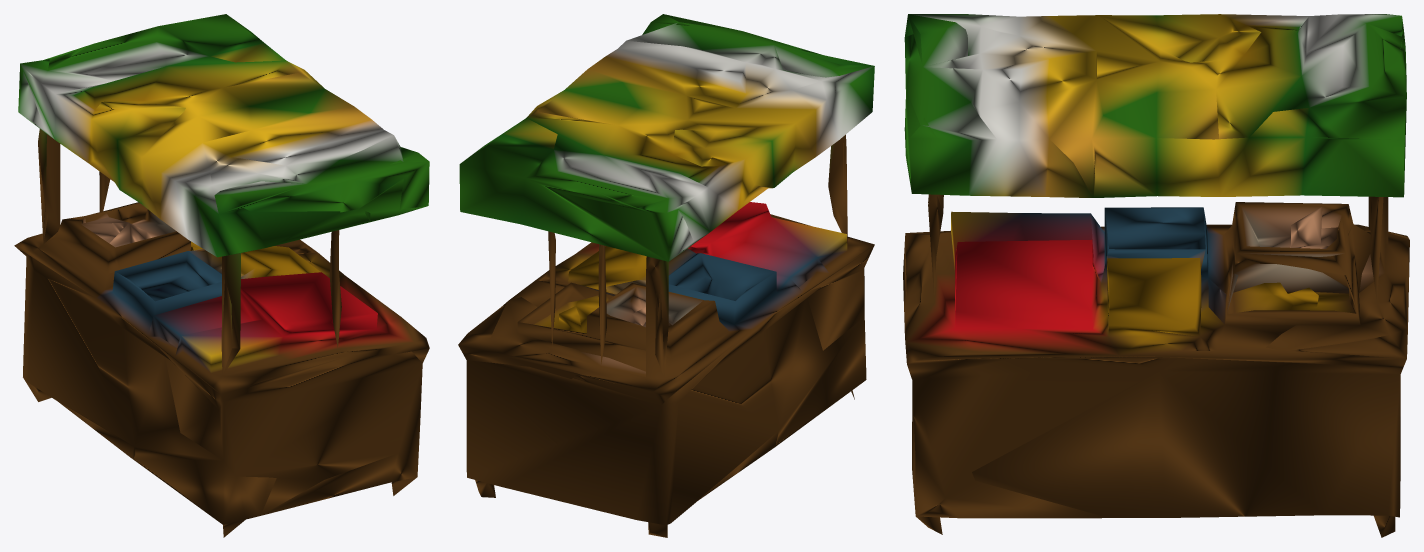
File: gen3d-market-stall-lod1.glb
3 renders of one model, left to right at view 1: azimuth 30°, elevation 25°; view 2: azimuth 150°, elevation 25°; view 3: azimuth 270°, elevation 25°, orthographic. The views are drawn at different scales.
Visible parts, largest first — view 1: part_0; view 2: part_0; view 3: part_0.
Boxes of the visible parts, x1,y1,x2,y2 form: part_0: (14, 14, 429, 537); part_0: (458, 14, 874, 537); part_0: (903, 14, 1409, 537).
Size of the model in its own units: 0.6621 by 0.9985 by 1.12.
